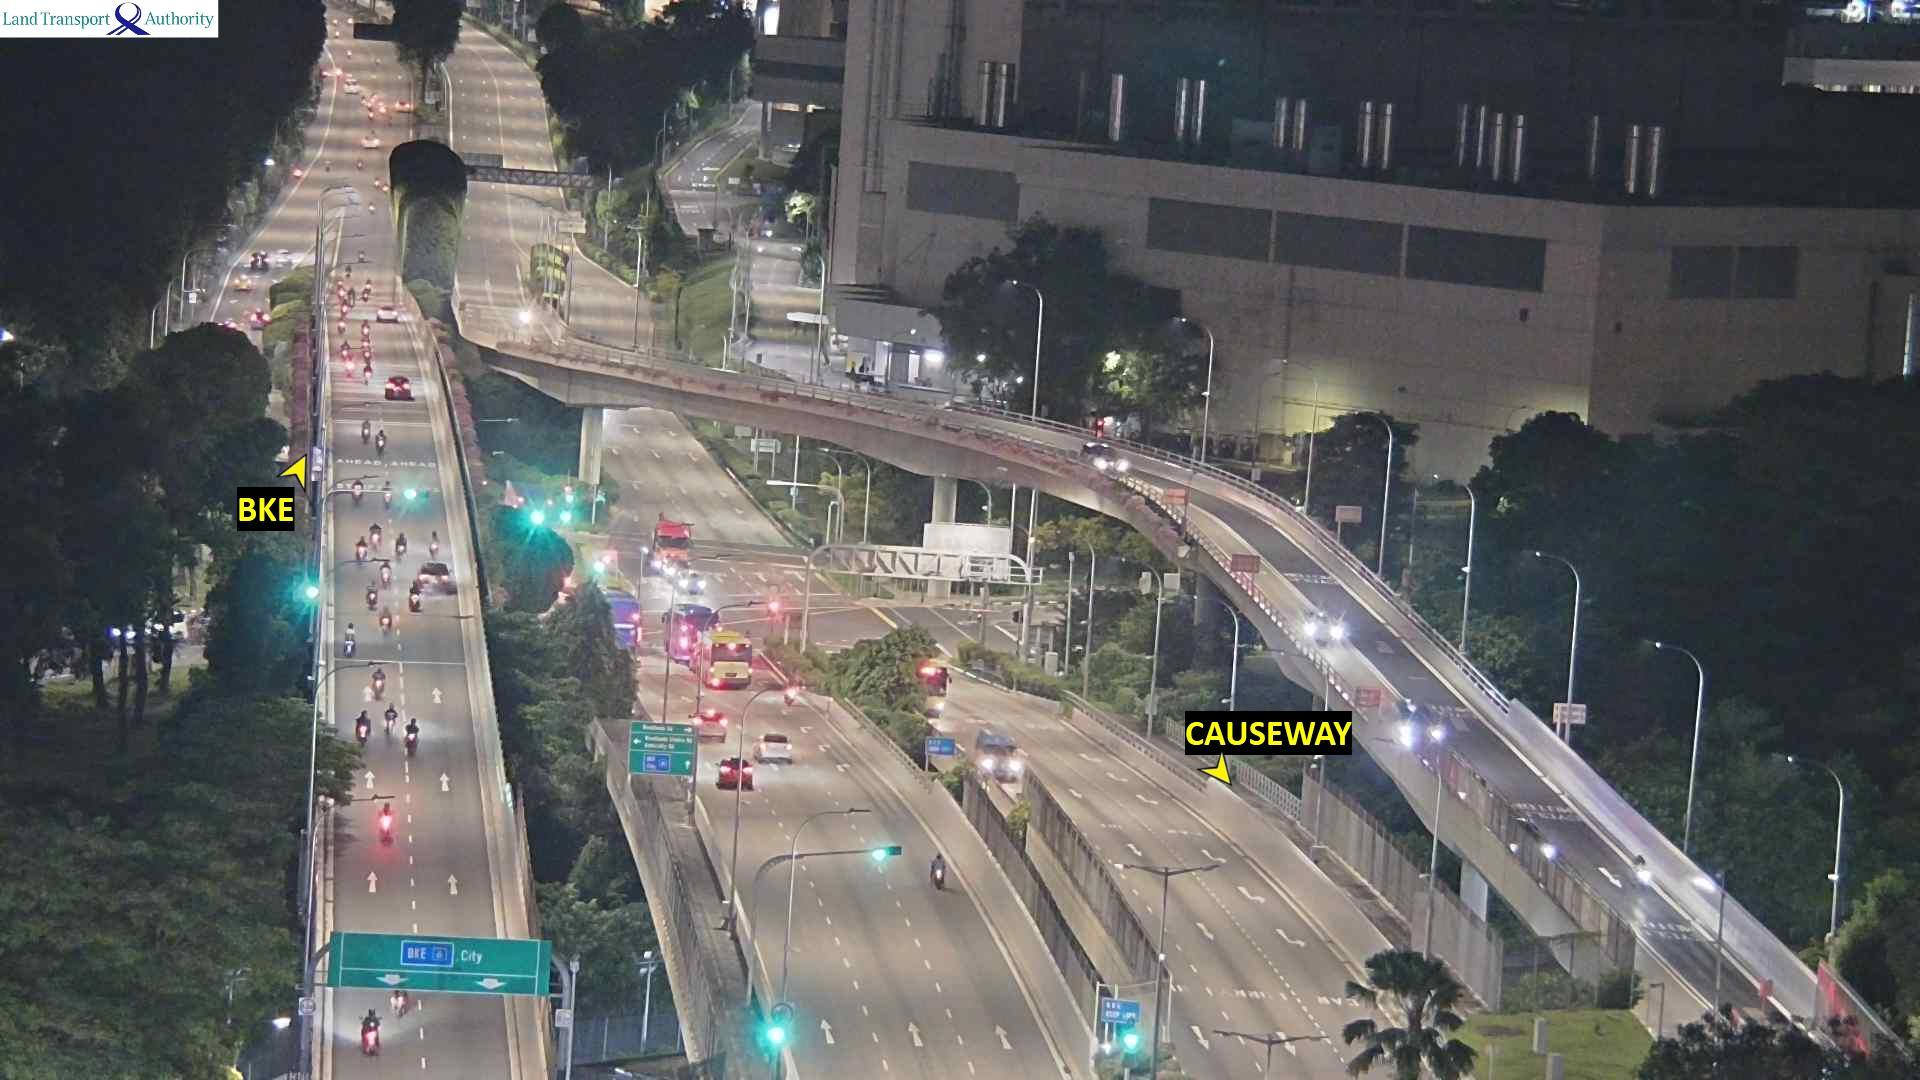vehicle-causeway-johor: (1389, 698, 1447, 745), (1304, 606, 1353, 654), (919, 660, 952, 717), (1078, 443, 1125, 476), (973, 729, 1014, 751), (1629, 856, 1650, 883)
vehicle-causeway-singapore: (751, 737, 792, 767), (762, 732, 802, 762), (707, 665, 755, 688), (719, 759, 751, 790), (359, 1012, 378, 1053), (418, 564, 450, 587), (928, 850, 946, 885), (379, 800, 395, 838), (383, 704, 401, 735), (378, 308, 410, 324), (385, 376, 411, 395), (698, 711, 726, 728), (356, 710, 369, 746), (378, 607, 394, 635), (343, 620, 356, 654), (393, 531, 410, 557), (428, 531, 445, 556), (379, 483, 394, 511), (407, 731, 424, 754), (372, 670, 386, 697), (370, 526, 386, 549), (377, 431, 389, 456), (352, 482, 365, 503), (364, 591, 378, 610), (360, 317, 370, 340), (379, 565, 392, 582), (354, 538, 364, 560), (360, 419, 369, 442), (342, 301, 351, 317), (348, 287, 355, 307), (363, 364, 369, 382), (341, 344, 347, 359)
